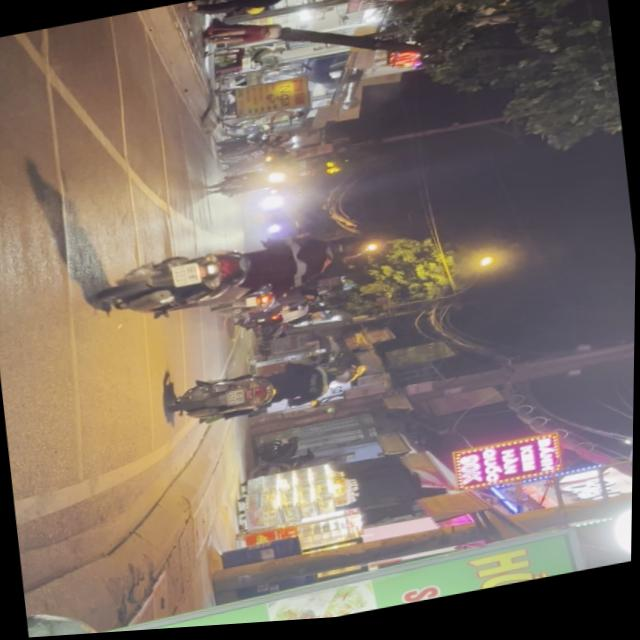helmet: (324, 237, 373, 266), (327, 364, 368, 394)
licenseplate: (91, 216, 382, 334), (168, 349, 370, 436)
nohelmet: (171, 263, 201, 290), (225, 392, 245, 409)
